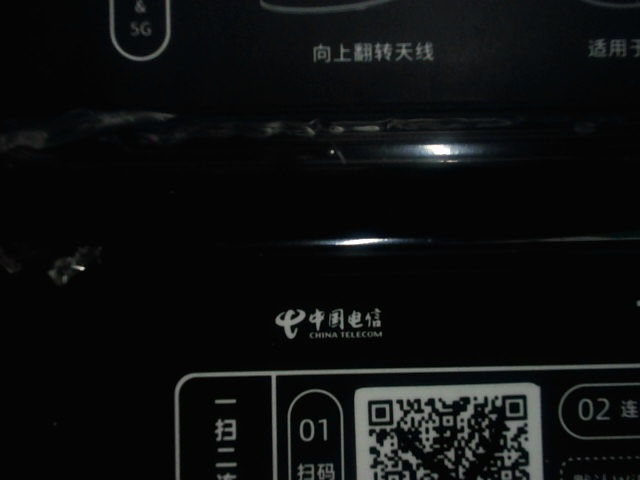AB_ChinaTelecom: (263, 304, 396, 349)
